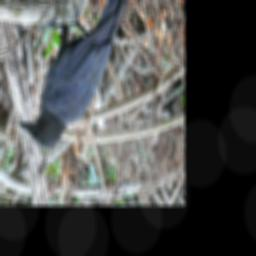Crow: (17, 0, 135, 149)
